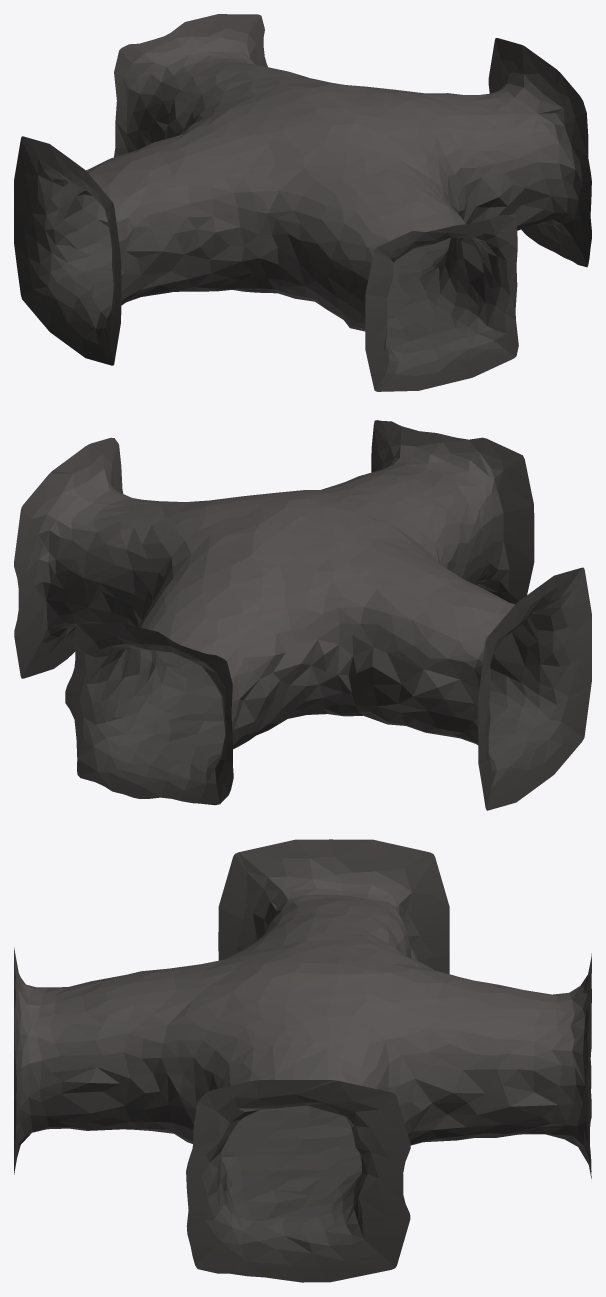
The model's file is ZLP_Cave_A_9.FBX.
The picture shows the model from 3 angles, top to bottom: view 1: azimuth 30°, elevation 25°; view 2: azimuth 150°, elevation 25°; view 3: azimuth 270°, elevation 25°; orthographic projection. The views are drawn at different scales.
Parts seen in each view (by area): view 1: ZLP_Cave_A_9; view 2: ZLP_Cave_A_9; view 3: ZLP_Cave_A_9.
Boxes of the visible parts, bbox=[...] form: ZLP_Cave_A_9: bbox=[14, 14, 591, 391]; ZLP_Cave_A_9: bbox=[14, 420, 591, 810]; ZLP_Cave_A_9: bbox=[14, 839, 591, 1282].
Bounding box in the file's own units: 4599 × 1820 × 4672.
